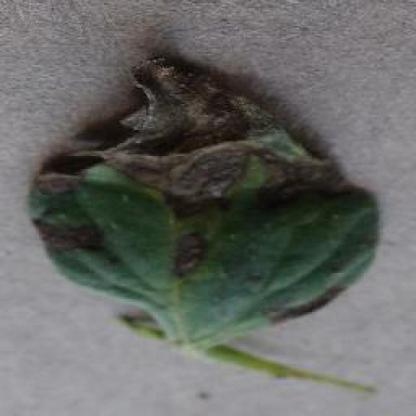Tomato_Blight: (30, 55, 377, 339)
